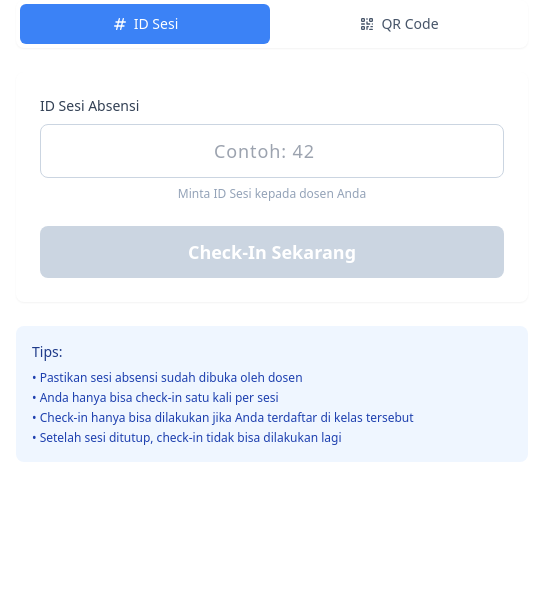
Test: MahasiswaCheckIn › check-in with session ID — success
Type "42" into the number field with placeholder "Contoh: 42".
click(272, 151); type("42")  # box [40,124,504,178]
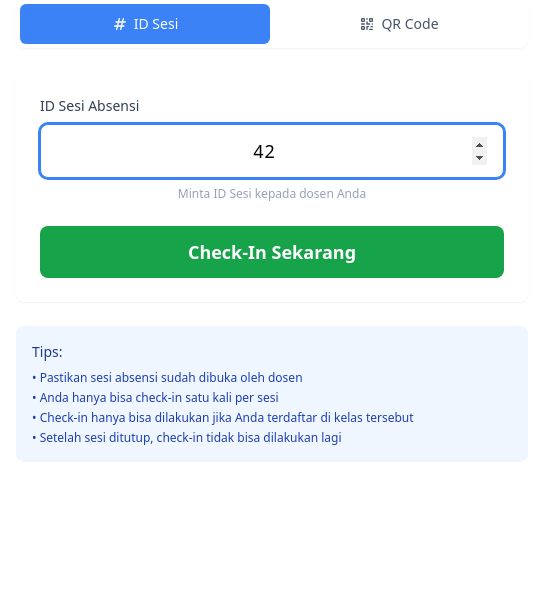
Click the button "Check-In Sekarang".
click(272, 252)  # box [40,226,504,278]
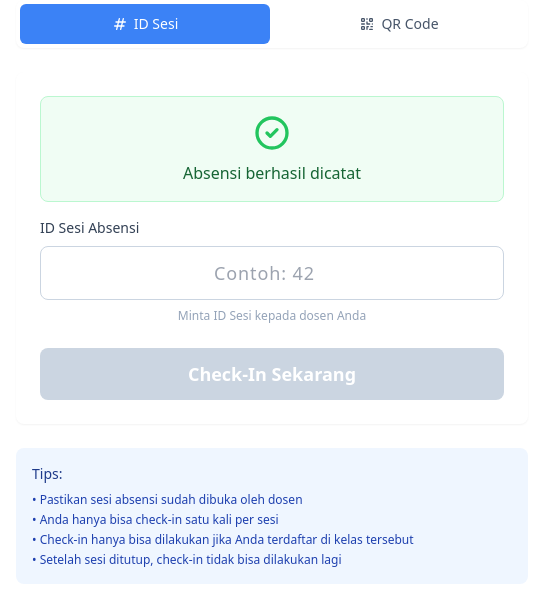
Check: the message reads "Absensi berhasil dicatat", box [183,162,361,184]
